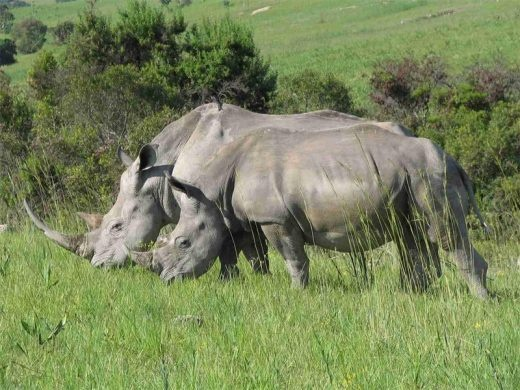rhino: (19, 101, 412, 270), (121, 125, 500, 300)
